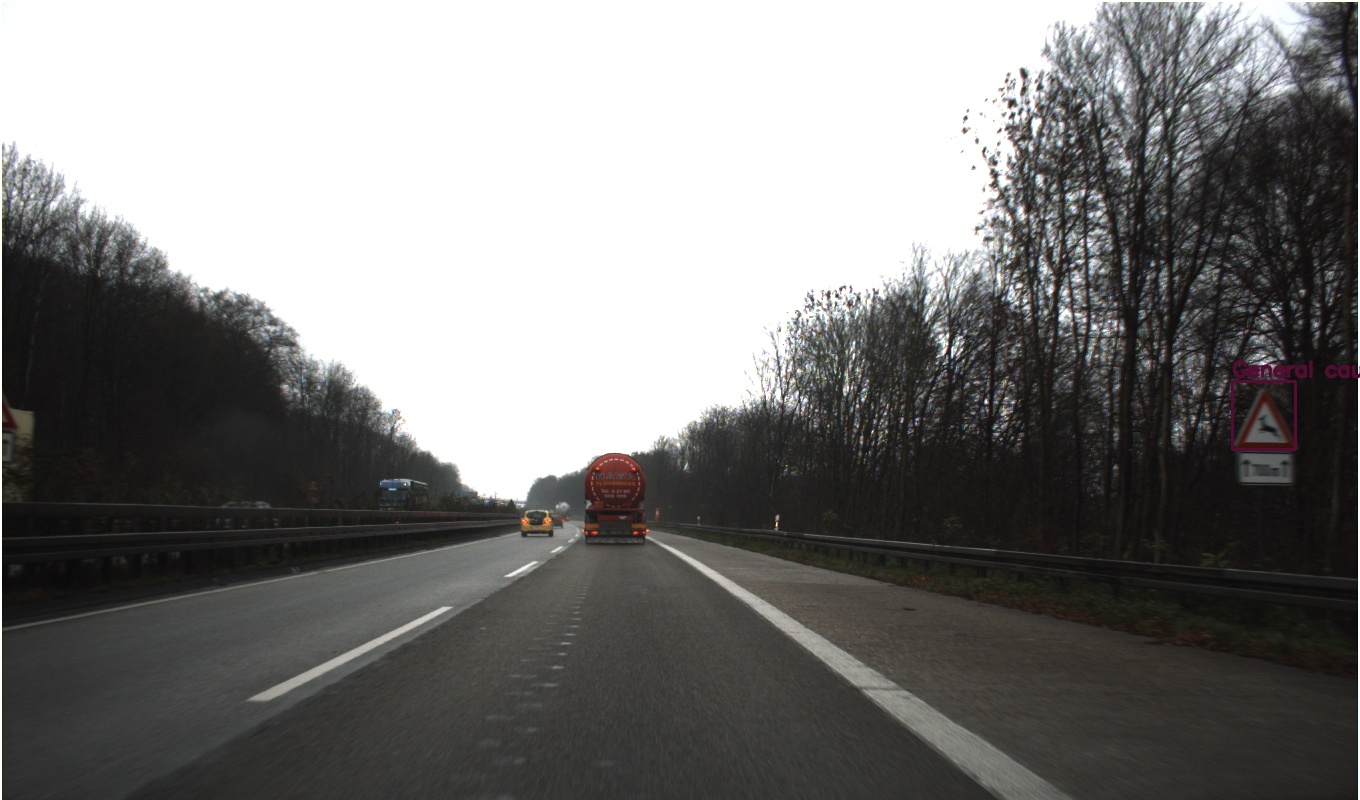Speed limit (20km/h): (975, 395, 1011, 430)
